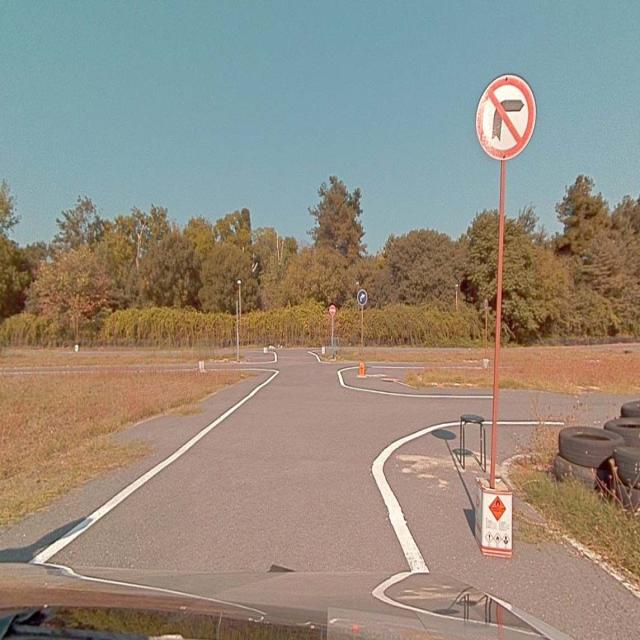girisyok: (329, 305, 335, 315)
sag: (357, 290, 367, 306)
sagadonulmez: (473, 71, 537, 164)
